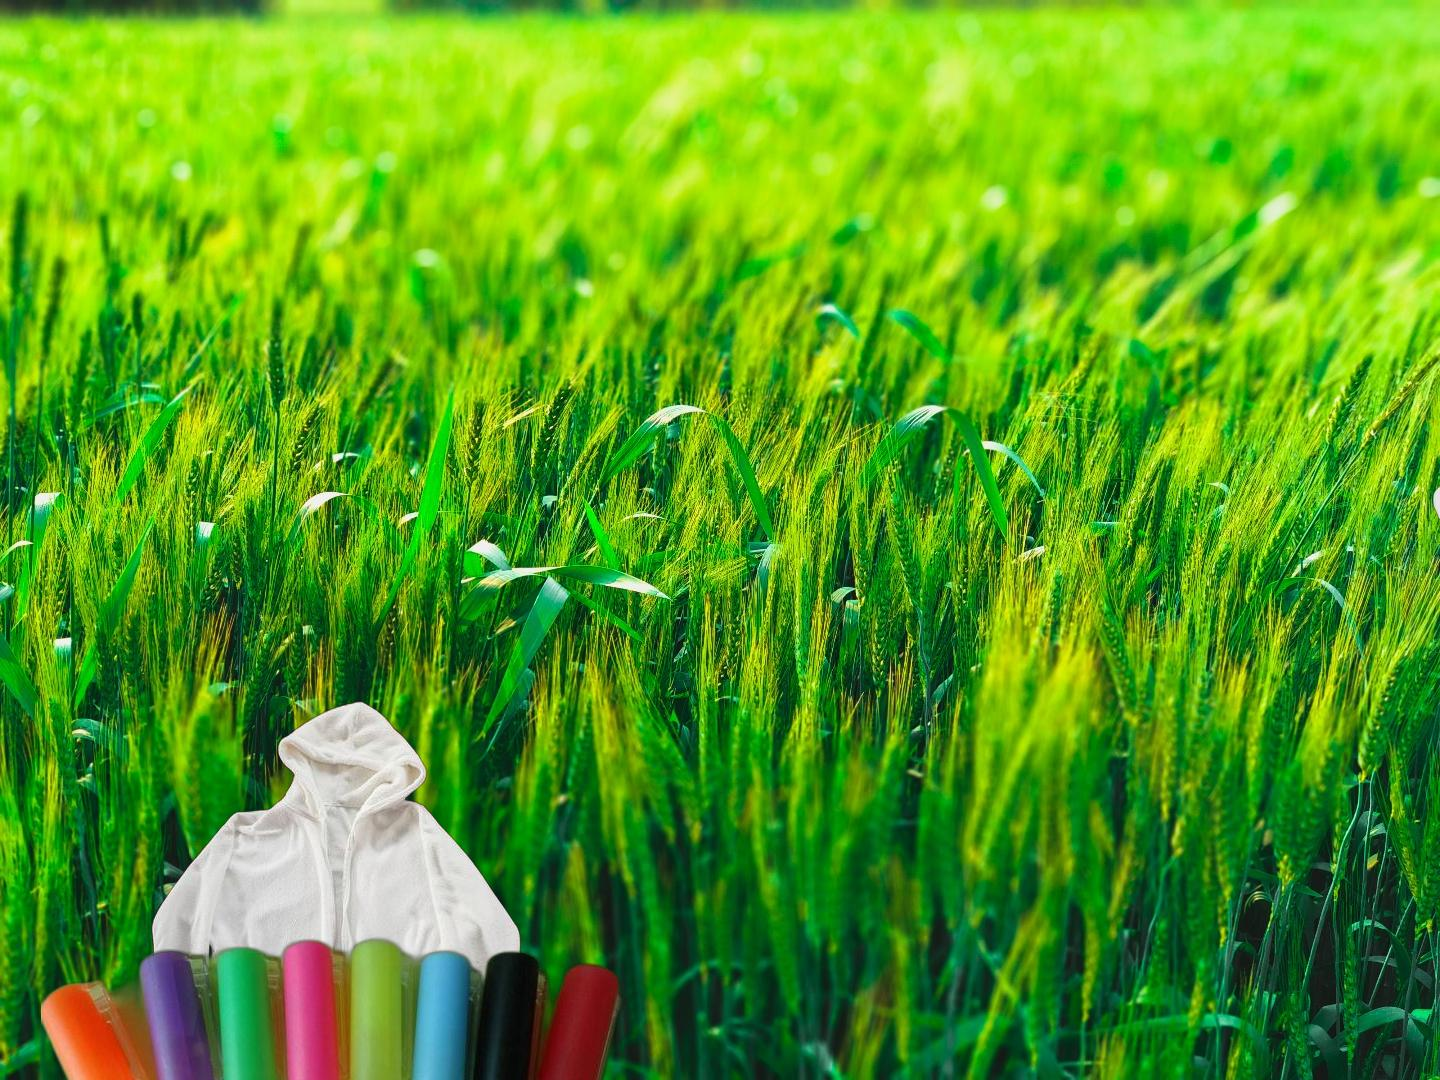clothes: (149, 697, 524, 1080)
penholder: (41, 934, 641, 1080)
trash: (1430, 369, 1440, 563)
